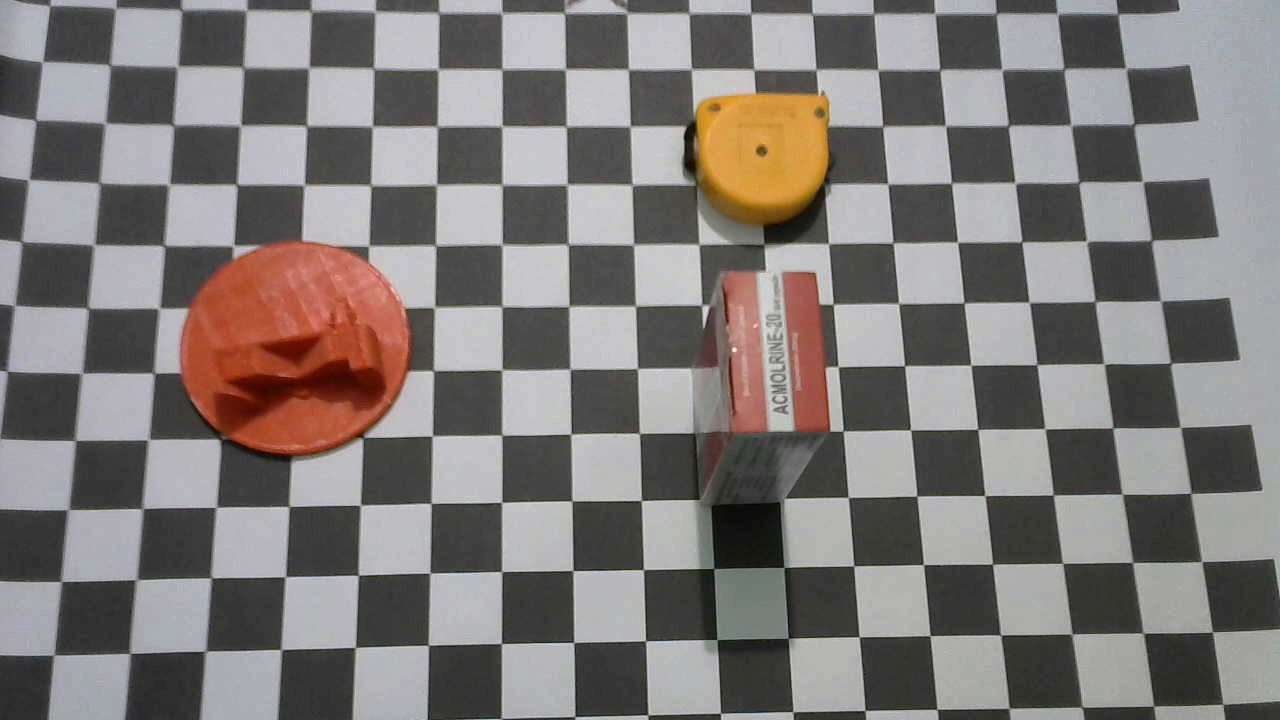blue: (689, 93, 829, 220)
green: (179, 243, 410, 459)
red: (690, 271, 827, 504)
